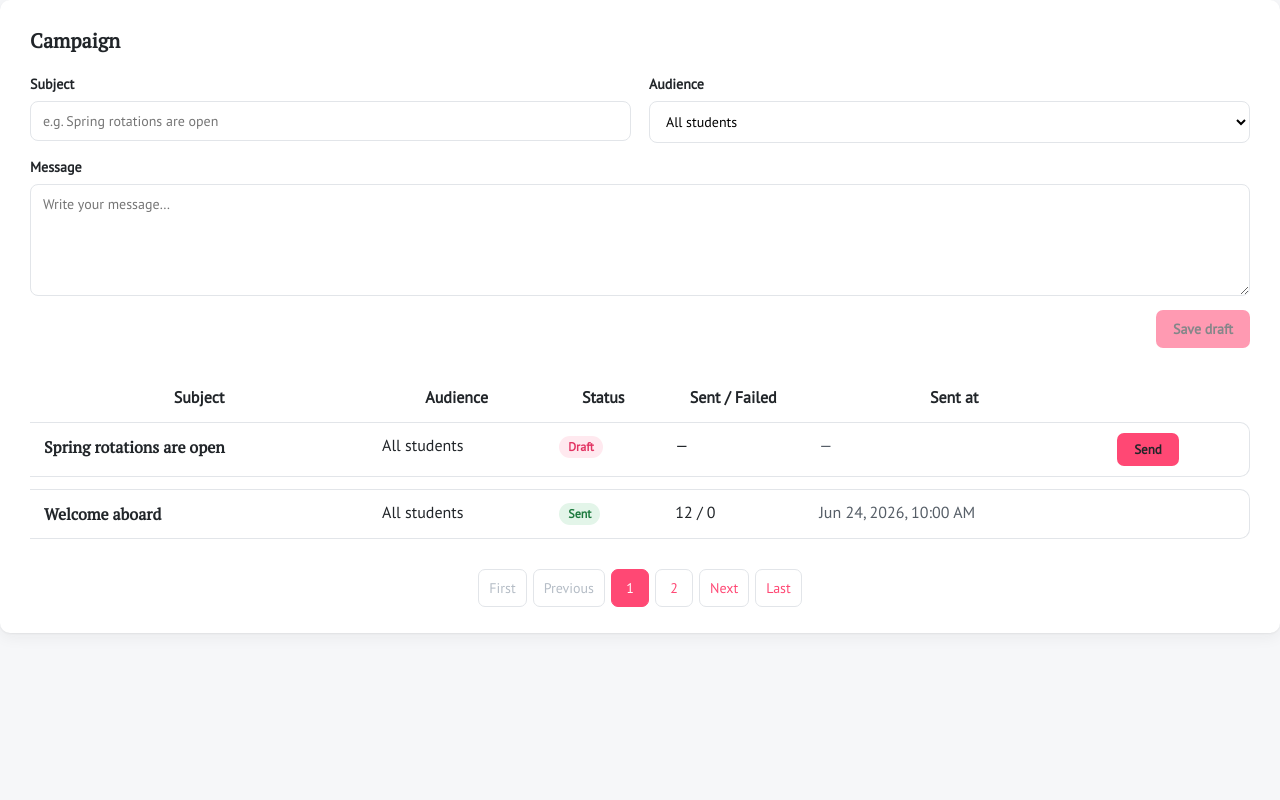
Test: DashboardCampaignPanel › pages server-side: clicking Next requests page 2
Expected: the text "Spring rotations are open" is shown, [30,422,368,477]
Click the button "Next": x=724, y=588 [699,569,749,607]
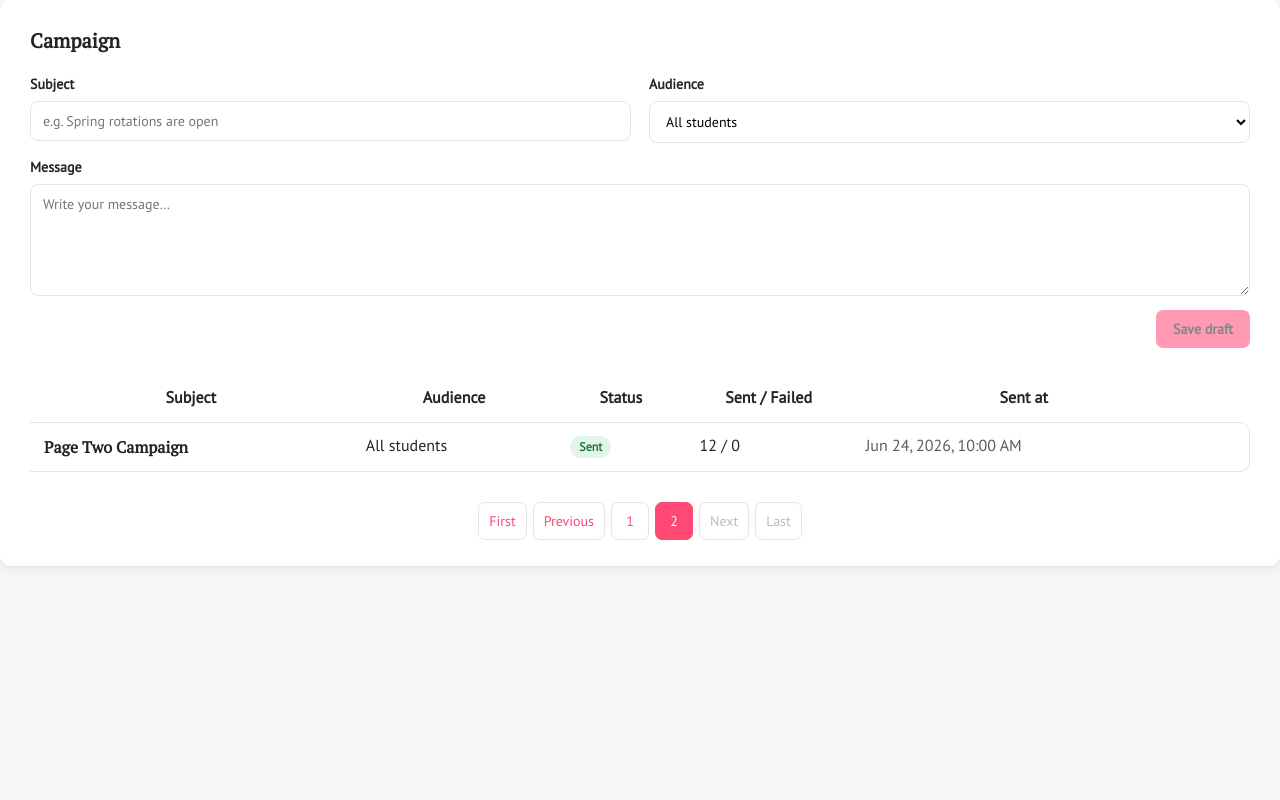
Expected: the text "Page Two Campaign" is shown, [30,422,352,472]
